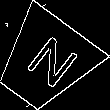N_SW: (13, 30, 77, 94)
